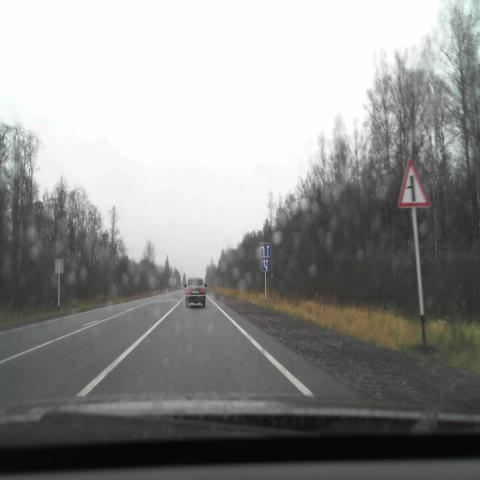2_3_3: (397, 156, 431, 209)
5_15_2_2: (260, 242, 271, 257)
5_15_3: (262, 257, 270, 271)
